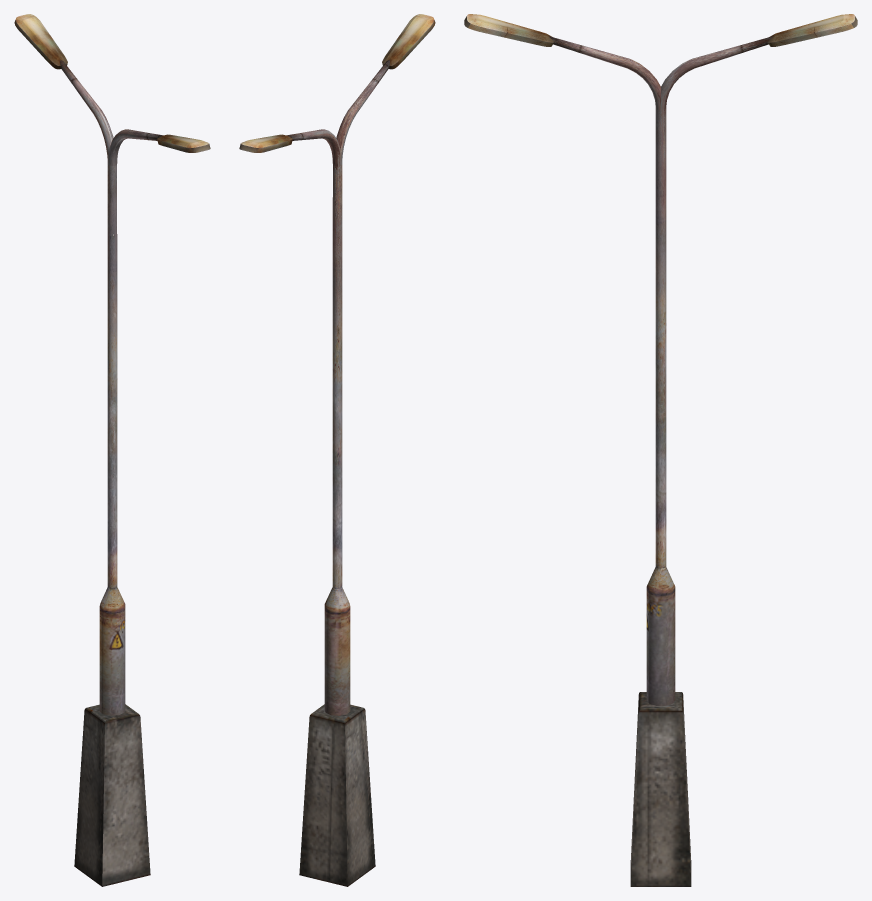
File: LampPostDouble_Floor_ALL.FBX
3 views of the same model, side by side, from view 1: azimuth 30°, elevation 25°; view 2: azimuth 150°, elevation 25°; view 3: azimuth 270°, elevation 25° (orthographic). The views are drawn at different scales.
Visible parts, largest first — view 1: StreetLampSmall_LOD0; view 2: StreetLampSmall_LOD0; view 3: StreetLampSmall_LOD0.
Boxes of the visible parts, x1,y1,x2,y2 form: StreetLampSmall_LOD0: (14, 14, 210, 886); StreetLampSmall_LOD0: (239, 14, 435, 886); StreetLampSmall_LOD0: (464, 14, 857, 886).
Size of what is drawn, in the model's own units: 587 by 9172 by 3817.
